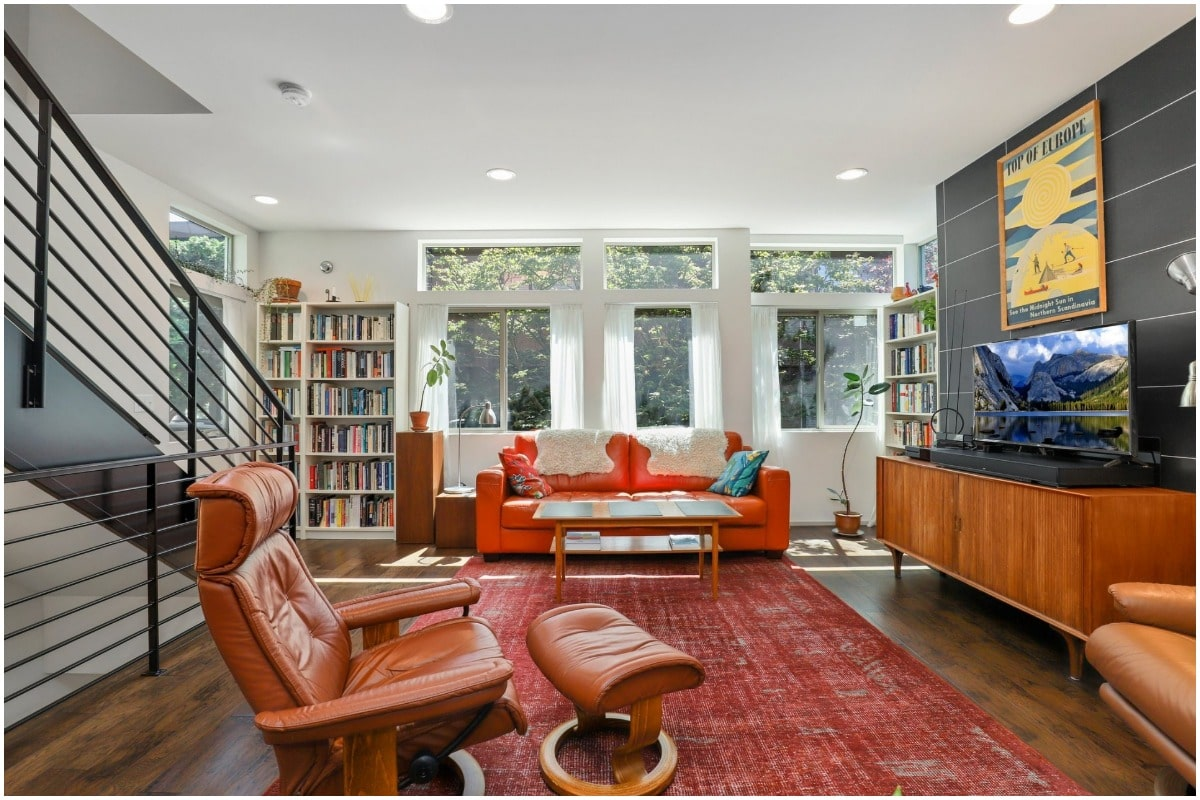coklat: (936, 476, 1196, 616), (835, 511, 864, 534), (411, 410, 431, 434)
hitam: (929, 440, 1137, 486)
orange: (479, 432, 791, 551)
